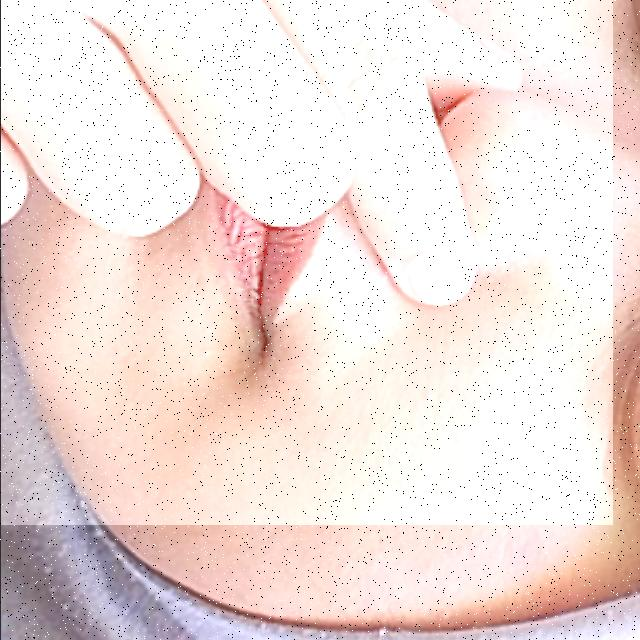bau: (0, 0, 612, 525)
